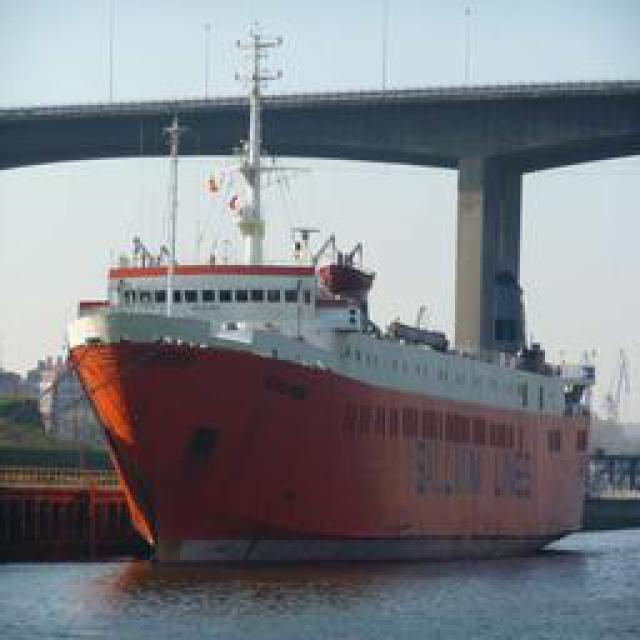Ship: (40, 146, 595, 574)
